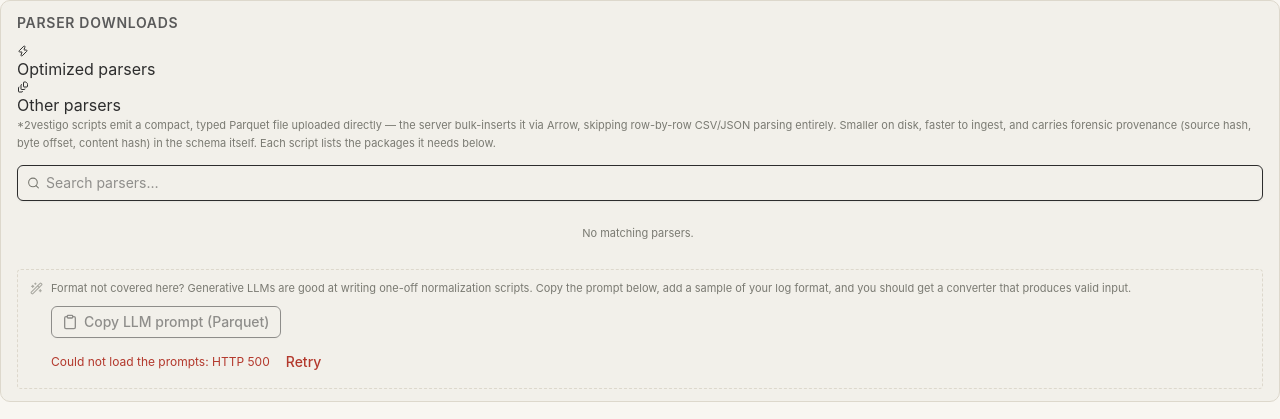
Test case: ParserDownloadsPanel — LLM prompts › explains a failed prompt load and retries on request
This screenshot has width=1280, height=419.
Expected: the text "Could not load the prompts: HTTP 500 Retry" is shown, [51,346,333,378]
Expected: the button "Copy LLM prompt (Parquet)" is disabled, [51,306,280,338]
Click the button "Retry" at (304,362), box [274,346,333,378]
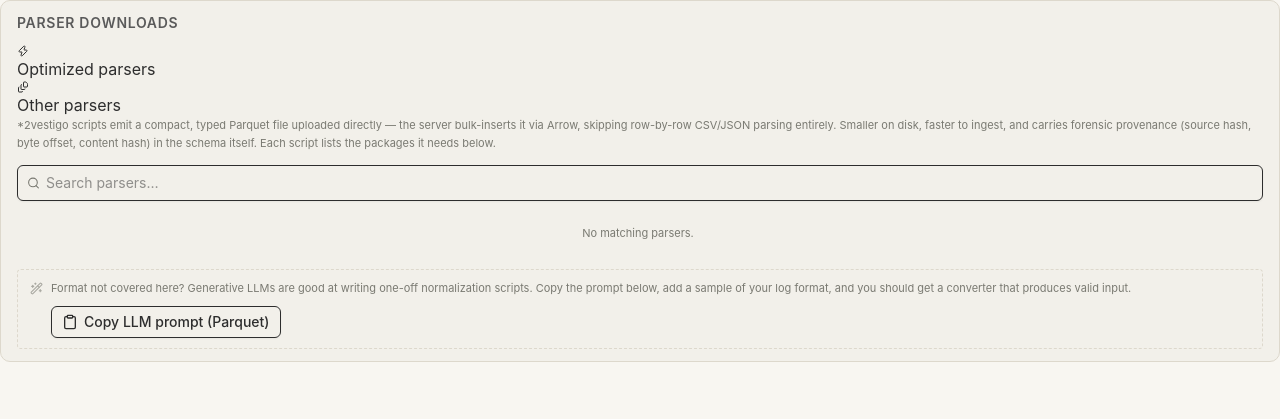
Now the button "Copy LLM prompt (Parquet)" is enabled, box [51,306,280,338]
Now the text "Could not load the prompts" is gone
